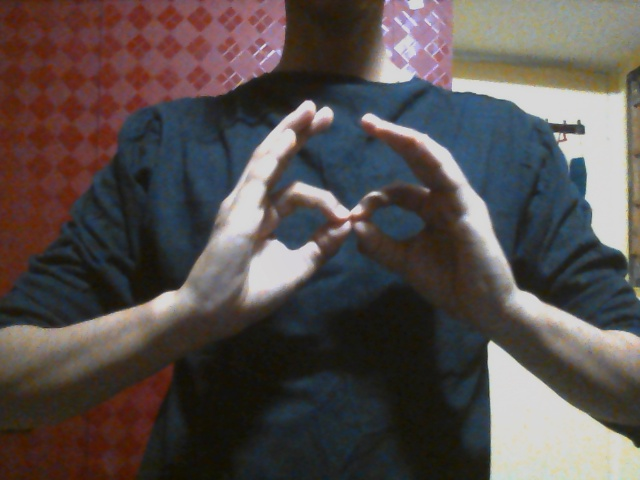B: (178, 98, 508, 357)
